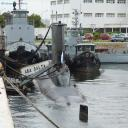submarine: (33, 16, 90, 122)
